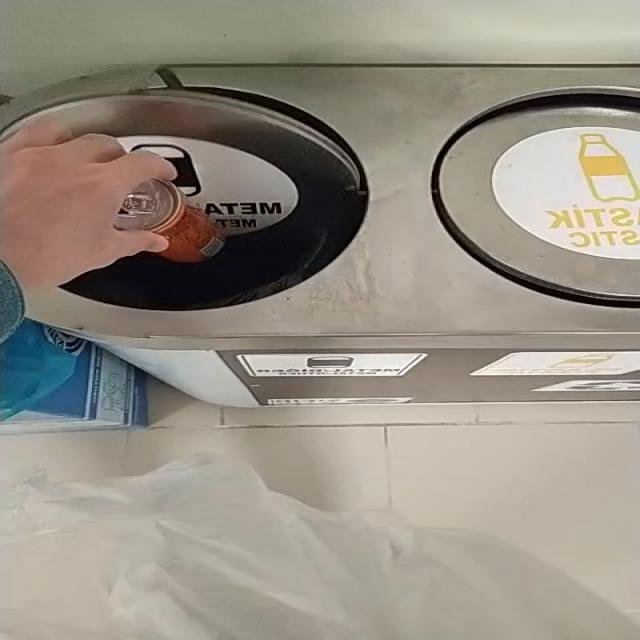bin: (1, 66, 640, 408), (433, 91, 640, 307)
metal: (113, 179, 223, 263)
